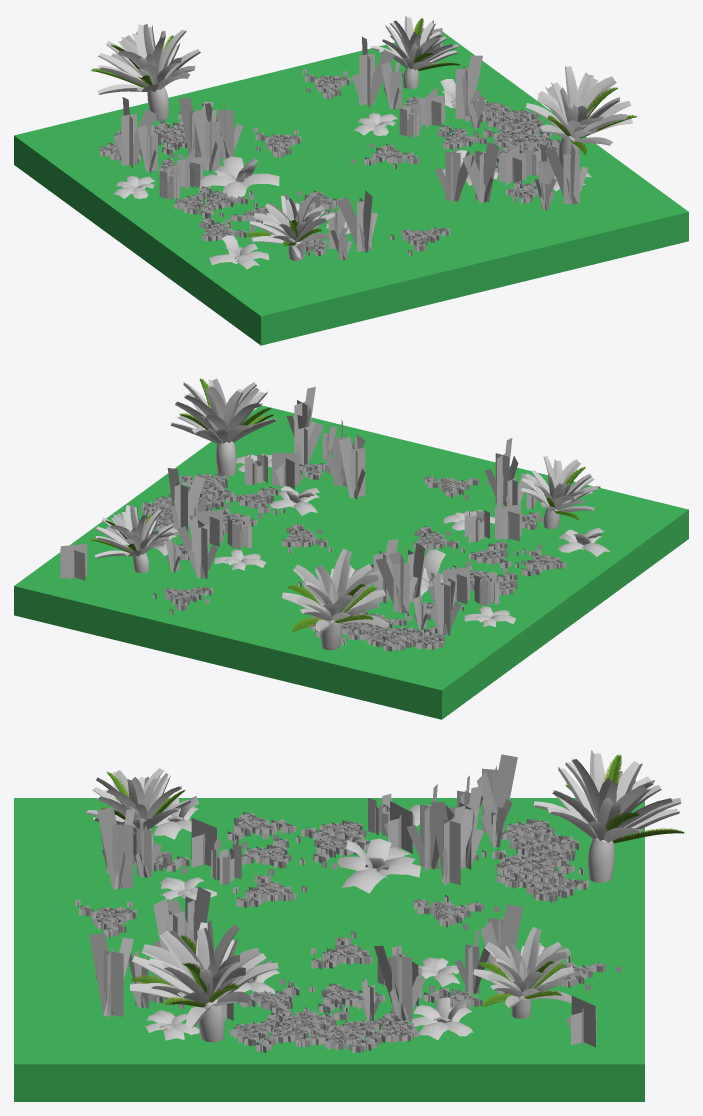
File: Blockout_Prototype_Terrain.fbx
3 views of the same model, one above another, from view 1: azimuth 30°, elevation 25°; view 2: azimuth 150°, elevation 25°; view 3: azimuth 270°, elevation 25° (orthographic). The views are drawn at different scales.
Parts seen in each view (by area): view 1: Ground.001, Plant.006, Plant.008, Plant.007, Plant.005, UMP_fern_02.007, UMP_bush_01.025, UMP_bush_01.007, UMP_bush_01.028, UMP_bush_01.034, UMP_bush_01.031, UMP_bush_01.024 (+14 smaller); view 2: Ground.001, Plant.008, Plant.006, Plant.007, Plant.005, UMP_bush_01.037, UMP_bush_01.033, UMP_bush_01.023, UMP_bush_01.007, UMP_bush_01.034, UMP_bush_01.028, UMP_bush_02.010 (+19 smaller); view 3: Ground.001, Plant.006, Plant.008, Plant.005, Plant.007, UMP_fern_02.007, UMP_bush_01.025, UMP_bush_01.028, UMP_bush_01.032, UMP_bush_01.037, UMP_bush_01.034, UMP_fern_02.008 (+18 smaller).
Boxes of the visible parts, bbox=[...] form: Ground.001: bbox=[14, 32, 688, 345]; Plant.006: bbox=[525, 66, 636, 168]; Plant.008: bbox=[91, 23, 200, 120]; Plant.007: bbox=[246, 193, 334, 260]; Plant.005: bbox=[371, 15, 460, 88]; UMP_fern_02.007: bbox=[199, 156, 279, 198]; UMP_bush_01.025: bbox=[545, 143, 588, 205]; UMP_bush_01.007: bbox=[351, 37, 394, 108]; UMP_bush_01.028: bbox=[337, 190, 377, 252]; UMP_bush_01.034: bbox=[114, 97, 156, 168]; UMP_bush_01.031: bbox=[193, 109, 220, 172]; UMP_bush_01.024: bbox=[462, 142, 498, 203]; Ground.001: bbox=[14, 405, 688, 719]; Plant.008: bbox=[281, 548, 388, 650]; Plant.006: bbox=[170, 378, 276, 476]; Plant.007: bbox=[521, 456, 600, 528]; Plant.005: bbox=[90, 504, 173, 572]; UMP_bush_01.037: bbox=[167, 468, 205, 535]; UMP_bush_01.033: bbox=[375, 554, 417, 613]; UMP_bush_01.023: bbox=[339, 437, 365, 499]; UMP_bush_01.007: bbox=[187, 515, 217, 578]; UMP_bush_01.034: bbox=[430, 572, 460, 635]; UMP_bush_01.028: bbox=[484, 438, 518, 507]; UMP_bush_02.010: bbox=[60, 543, 87, 580]; Ground.001: bbox=[14, 798, 644, 1101]; Plant.006: bbox=[130, 920, 278, 1042]; Plant.008: bbox=[533, 750, 685, 882]; Plant.005: bbox=[473, 927, 574, 1018]; Plant.007: bbox=[84, 768, 190, 851]; UMP_fern_02.007: bbox=[337, 838, 420, 893]; UMP_bush_01.025: bbox=[89, 933, 133, 1018]; UMP_bush_01.028: bbox=[97, 807, 134, 890]; UMP_bush_01.032: bbox=[431, 802, 477, 885]; UMP_bush_01.037: bbox=[374, 943, 425, 1021]; UMP_bush_01.034: bbox=[477, 754, 517, 832]; UMP_fern_02.008: bbox=[412, 997, 472, 1040].
Bounding box in the file's own units: 205 × 53.72 × 213.
